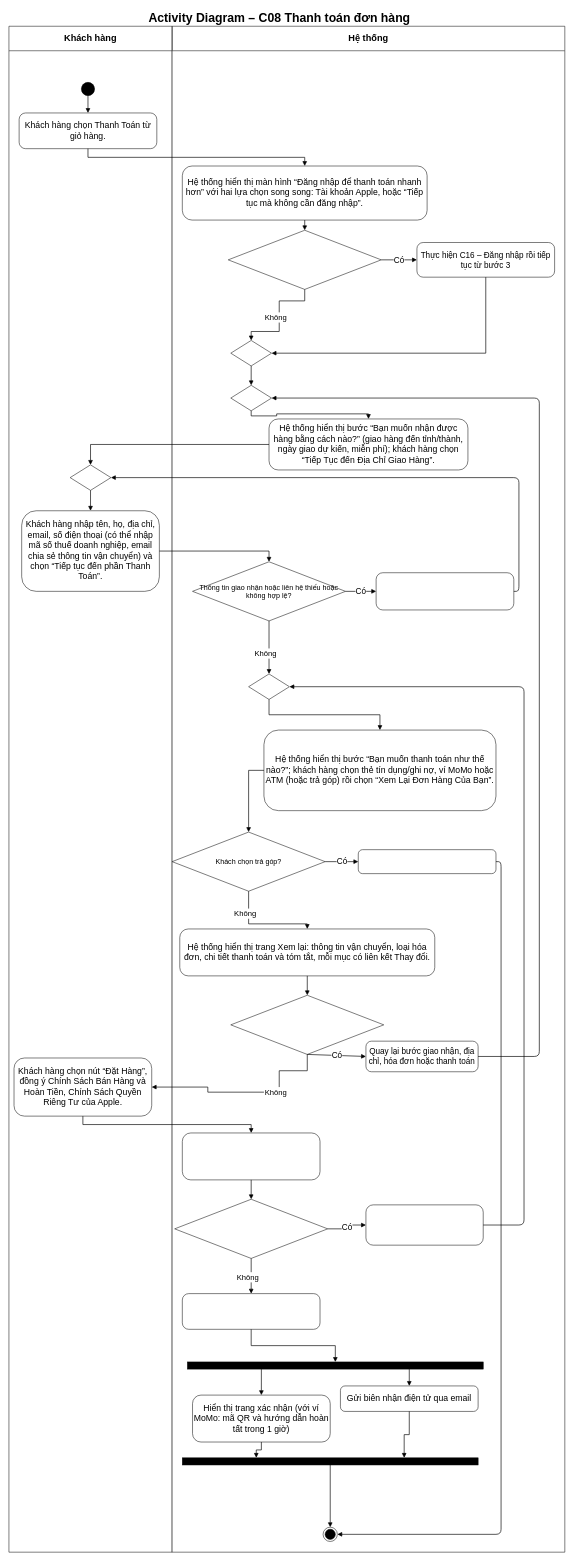
The diagram is 574 pixels wide and 1561 high, and some of its shapes have lost their labels. The box of each missing label's shape, as (x1, y1, x2, y2) in pixels:
Chuyển sang C09 Mua trả góp: (358, 849, 496, 874)
Hệ thống gửi yêu cầu xử lý thanh toán tới cổng thanh toán.: (182, 1132, 320, 1180)
Khi thành công, hệ thống tạo đơn: (182, 1293, 320, 1329)
Khách chọn thanh toán bằng Tài khoản Apple?: (228, 230, 381, 289)
Khách chọn Thay đổi một mục?: (230, 995, 384, 1054)
Thanh toán thất bại?: (174, 1199, 328, 1258)
Thông báo và cho chọn lại phương thức thanh toán: (365, 1204, 483, 1245)
Yêu cầu sửa trước khi tiếp tục: (376, 572, 514, 610)
